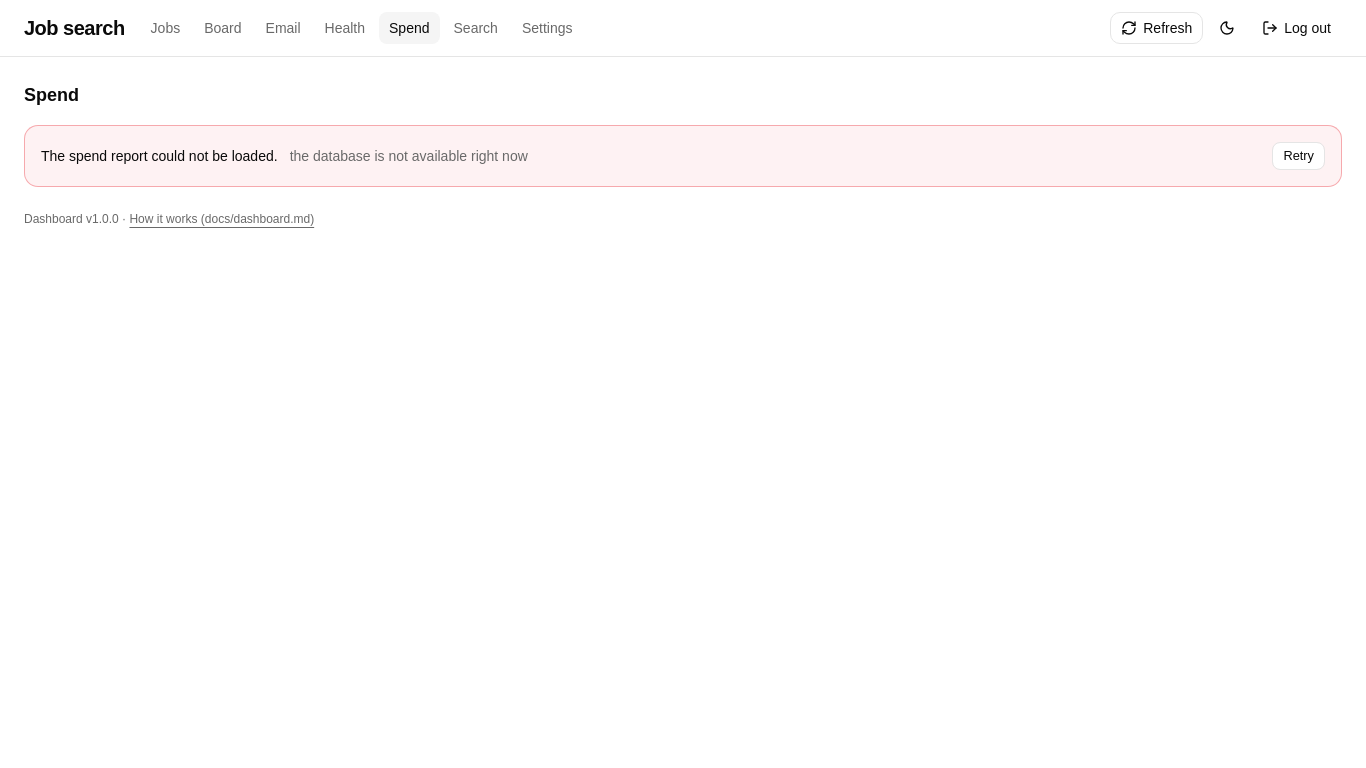
Test case: the spend page › reports a failed load with a retry, and sends an ended session to the login page
Expected: the message shows "The spend report could not be loaded.", [24,125,1342,187]
Click the button "Retry". click: (1299, 156)
box: [1272,142,1325,170]
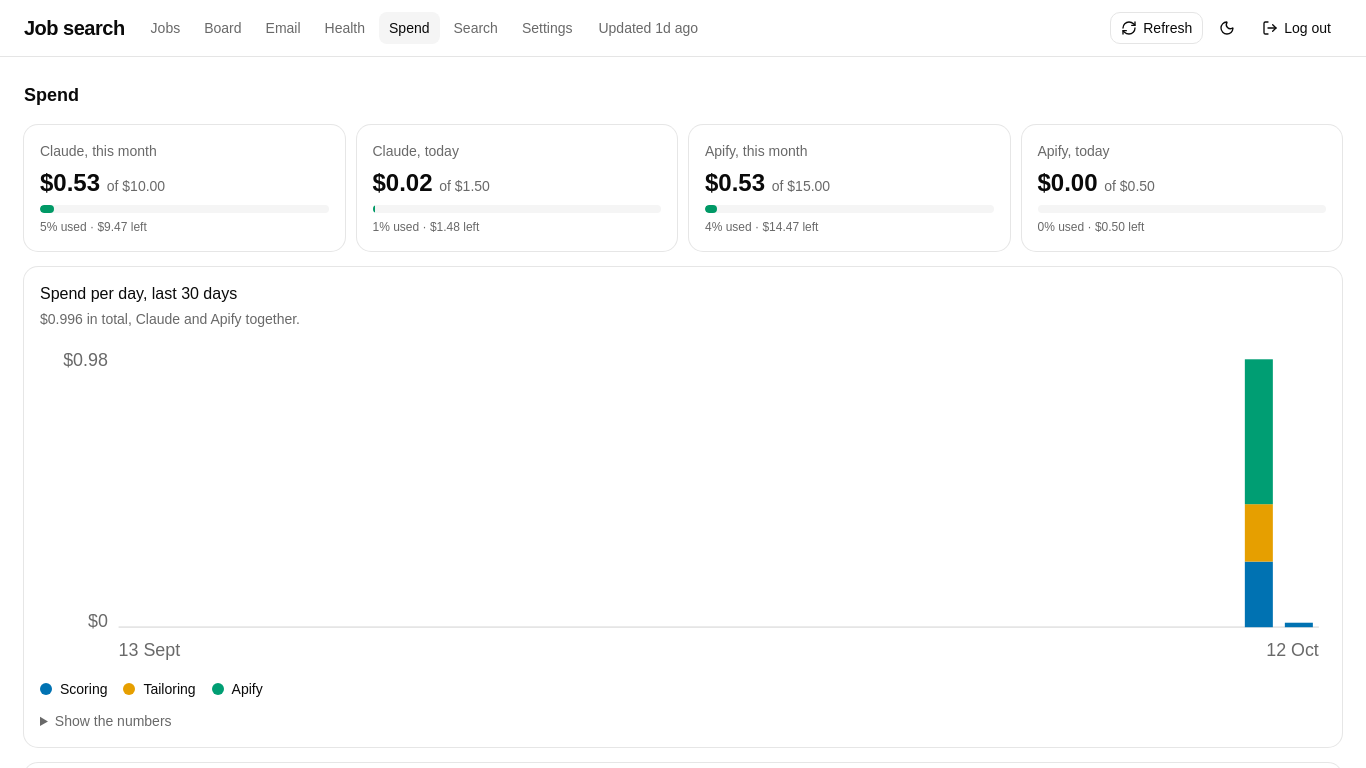
Now the element named "Spend against the caps" is shown, box [24,125,1342,251]
